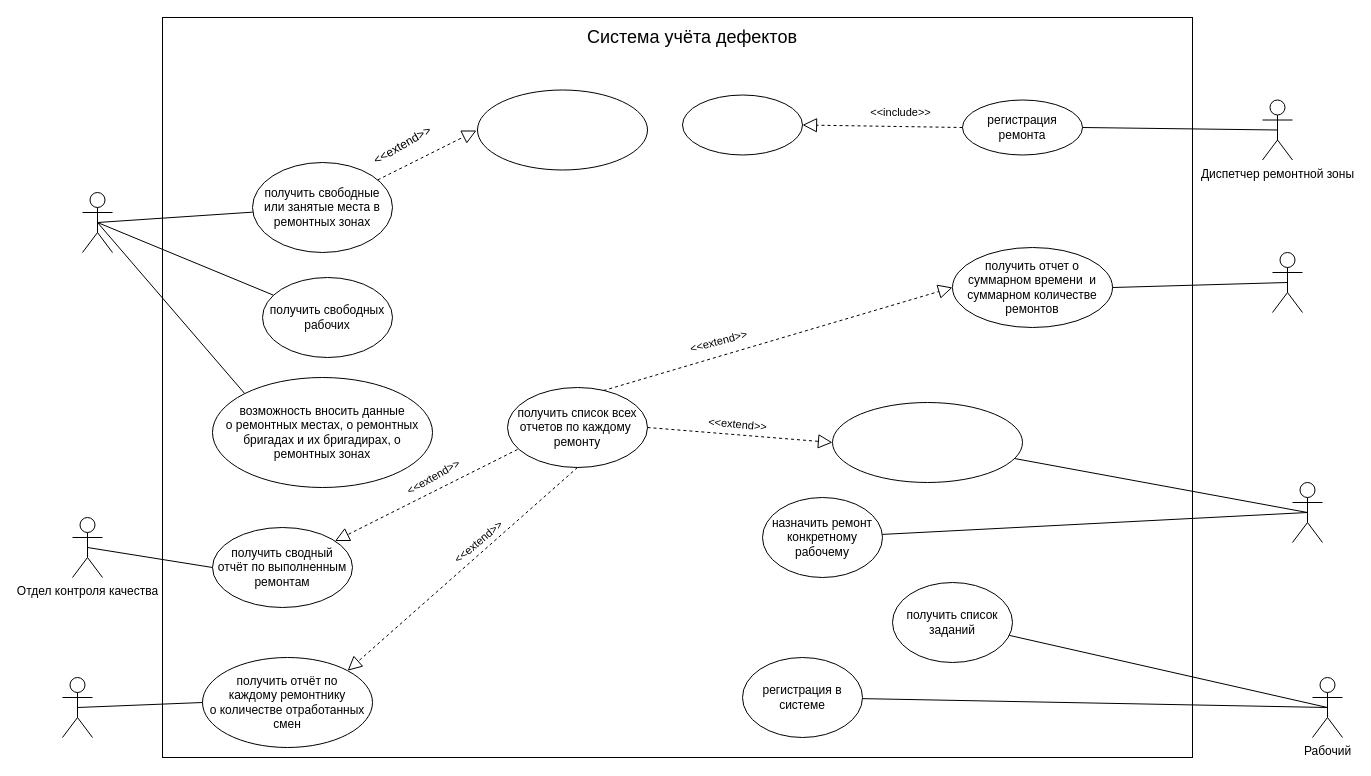
This 1371x776 diagram has some shape labels left out. The shapes that lost their labels are listed below. From the top down, each one's centre as x and y in pixels, then its label:
At point 562,129: "направить автомобиль в свободную ремонтную зону".
At point 742,124: "регистрация дефекта".
At point 97,222: "Диспетчер".
At point 1287,282: "Начальник цеха".
At point 927,442: "получить отчет по каждому ремонтнику бригады".
At point 1307,512: "Бригадир".
At point 77,707: "Бухгалтерия".
